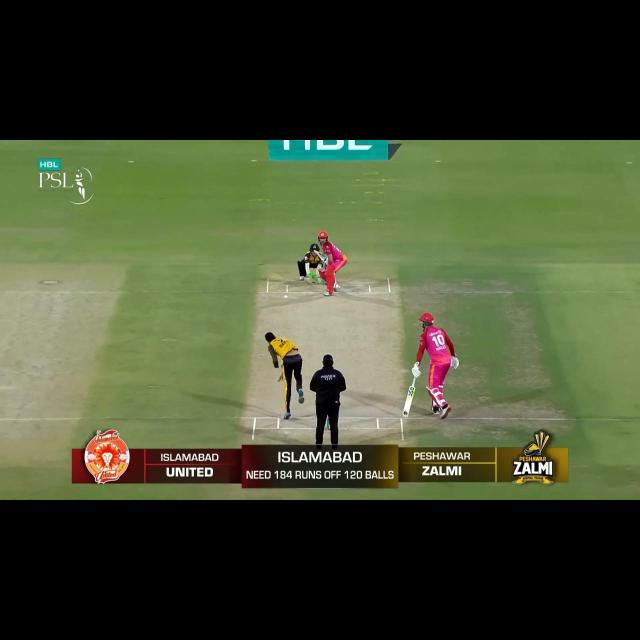bat: (403, 388, 415, 418), (313, 250, 324, 260)
toe: (402, 410, 410, 417), (313, 248, 320, 254)
